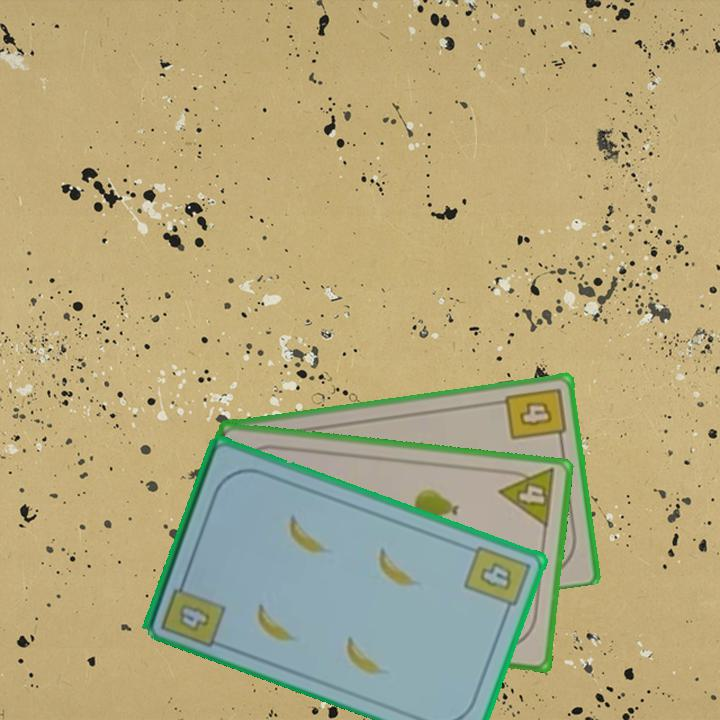4b: (460, 541, 533, 618), (157, 571, 228, 650), (502, 384, 568, 446)
4p: (496, 465, 559, 530)
